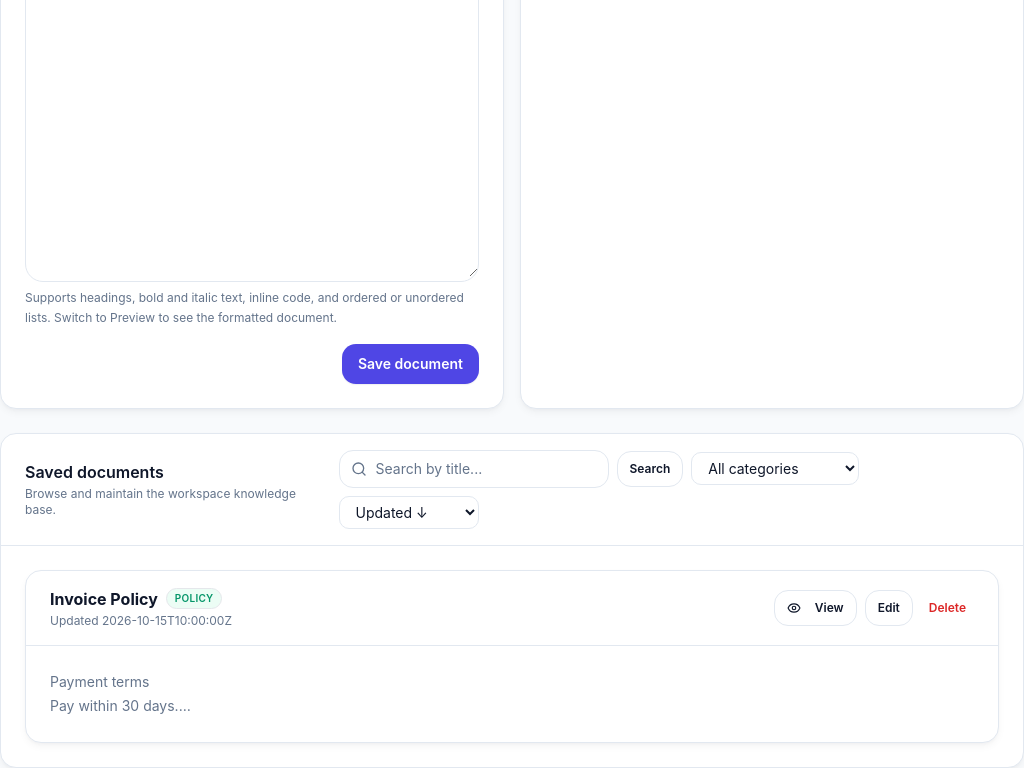
DocumentsPage › opens a formatted document viewer and closes it with Escape
The width and height of the screenshot is (1024, 768).
(page scrolled)
Expected: the text with class "line-clamp-2" shows "Payment terms", [50, 672, 179, 762]
Expected: the text with class "line-clamp-2" shows "Pay within 30 days.", [50, 672, 179, 762]
Click the button "View" at {"x": 815, "y": 608}, box [774, 590, 857, 626]
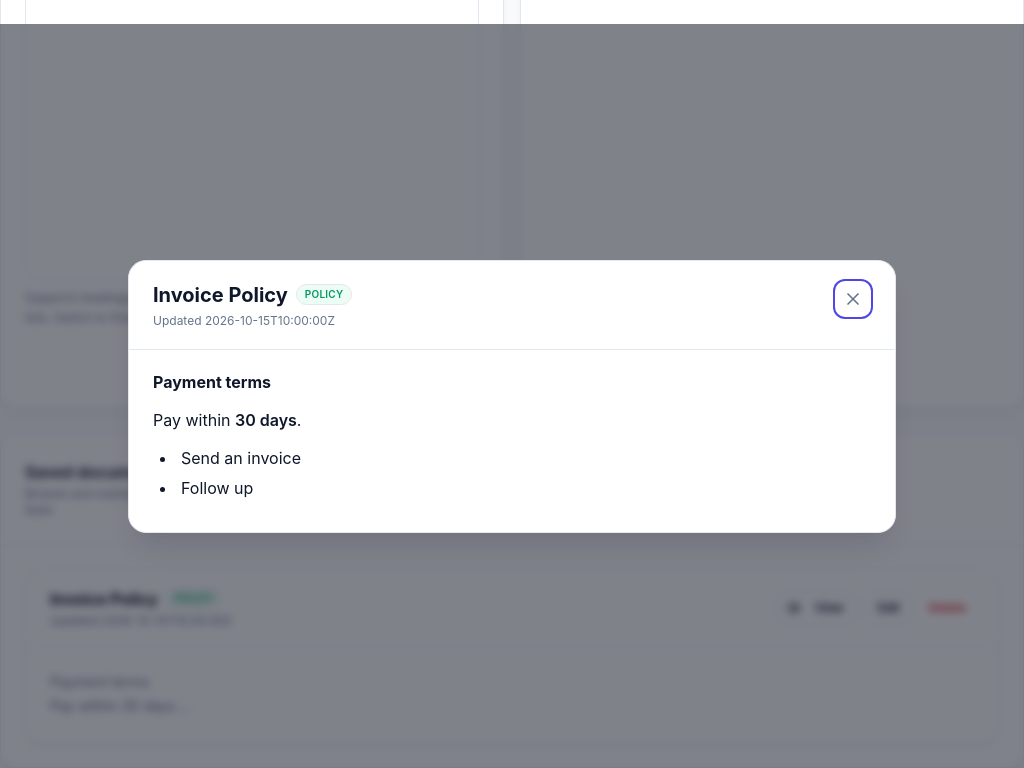
Expected: the dialog named "Document: Invoice Policy" shows "Invoice Policy", [153, 282, 288, 306]
Expected: the heading "Payment terms" is shown, [153, 372, 271, 392]
Expected: the text "30 days" is shown, [235, 410, 297, 430]
Press Escape
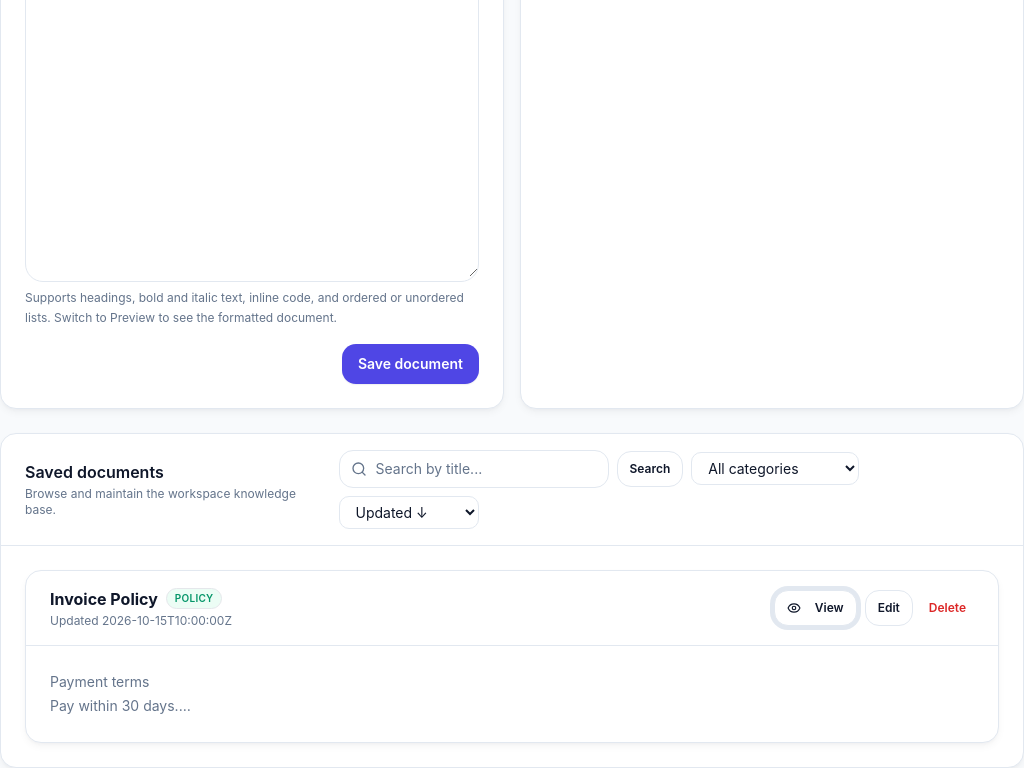
Expected: the dialog is gone
